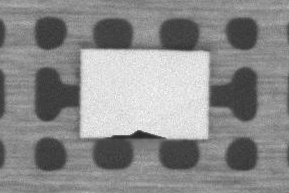DIE_BROKEN: (104, 127, 167, 139)
